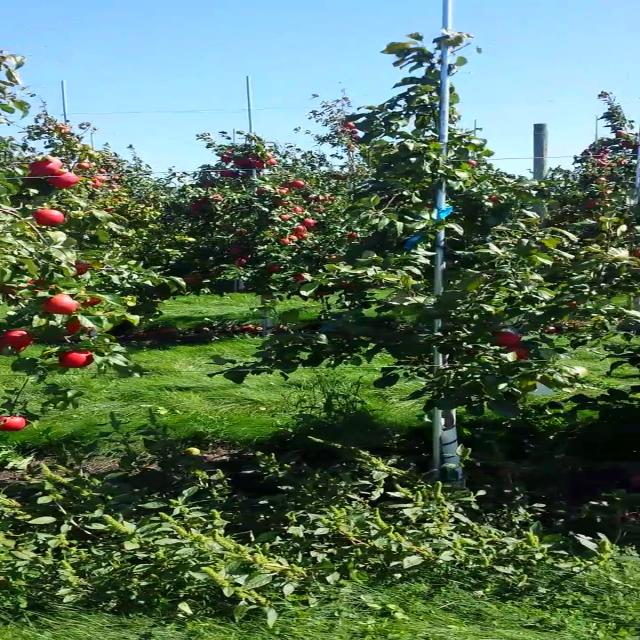apple: (45, 293, 79, 314), (59, 349, 94, 368), (28, 158, 62, 176), (46, 170, 78, 188), (33, 209, 65, 227), (496, 328, 523, 347), (4, 330, 32, 348), (63, 319, 93, 335), (0, 416, 28, 432), (78, 296, 103, 308), (506, 346, 528, 358), (192, 202, 208, 214), (26, 170, 44, 180), (74, 264, 89, 276), (290, 273, 306, 282), (207, 195, 225, 203), (234, 257, 248, 267), (266, 264, 282, 272), (290, 180, 304, 189), (541, 325, 558, 332), (230, 247, 243, 256), (184, 277, 200, 284), (235, 159, 250, 166), (294, 225, 306, 233), (256, 188, 268, 196), (277, 189, 290, 196), (92, 176, 107, 182), (632, 248, 640, 259), (304, 219, 316, 226), (344, 121, 356, 128), (466, 159, 478, 166), (594, 177, 608, 183), (488, 196, 498, 204), (77, 163, 90, 169), (220, 156, 233, 162), (586, 202, 599, 208), (262, 153, 274, 159), (566, 301, 578, 307), (615, 131, 627, 137), (224, 149, 234, 156), (278, 238, 289, 244), (220, 170, 231, 176), (254, 160, 265, 166), (624, 141, 635, 147), (601, 148, 612, 154), (279, 214, 289, 220), (278, 201, 290, 206), (266, 160, 276, 166), (316, 196, 326, 202), (618, 159, 629, 164), (92, 182, 101, 188), (306, 194, 315, 200), (98, 169, 108, 174), (62, 129, 72, 134), (235, 230, 245, 235), (293, 207, 303, 212), (350, 129, 360, 134), (594, 153, 604, 158), (104, 207, 114, 212), (298, 234, 310, 238), (327, 196, 335, 202), (283, 184, 292, 189), (114, 196, 123, 201), (350, 232, 357, 238), (288, 235, 296, 240), (281, 187, 289, 192), (596, 162, 606, 166), (352, 136, 361, 140), (607, 164, 616, 168), (347, 144, 354, 149), (112, 176, 120, 180), (109, 185, 117, 189), (57, 125, 65, 129), (604, 156, 612, 160), (116, 186, 126, 189), (64, 125, 72, 128)
